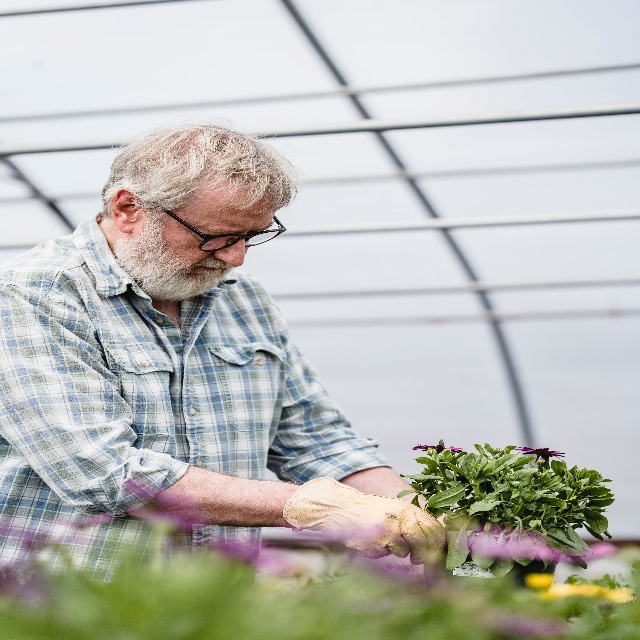Gafas: (163, 208, 287, 252)
Guantes: (282, 475, 447, 566)
